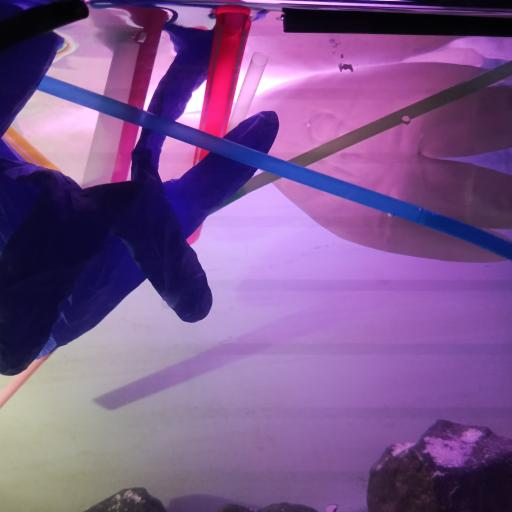glove: (0, 3, 279, 378), (156, 61, 512, 265)
plastic_straw: (38, 75, 511, 264), (210, 60, 511, 213), (110, 11, 168, 185), (191, 10, 250, 169), (83, 40, 140, 187), (281, 4, 512, 40), (0, 353, 51, 406), (4, 126, 61, 172)
